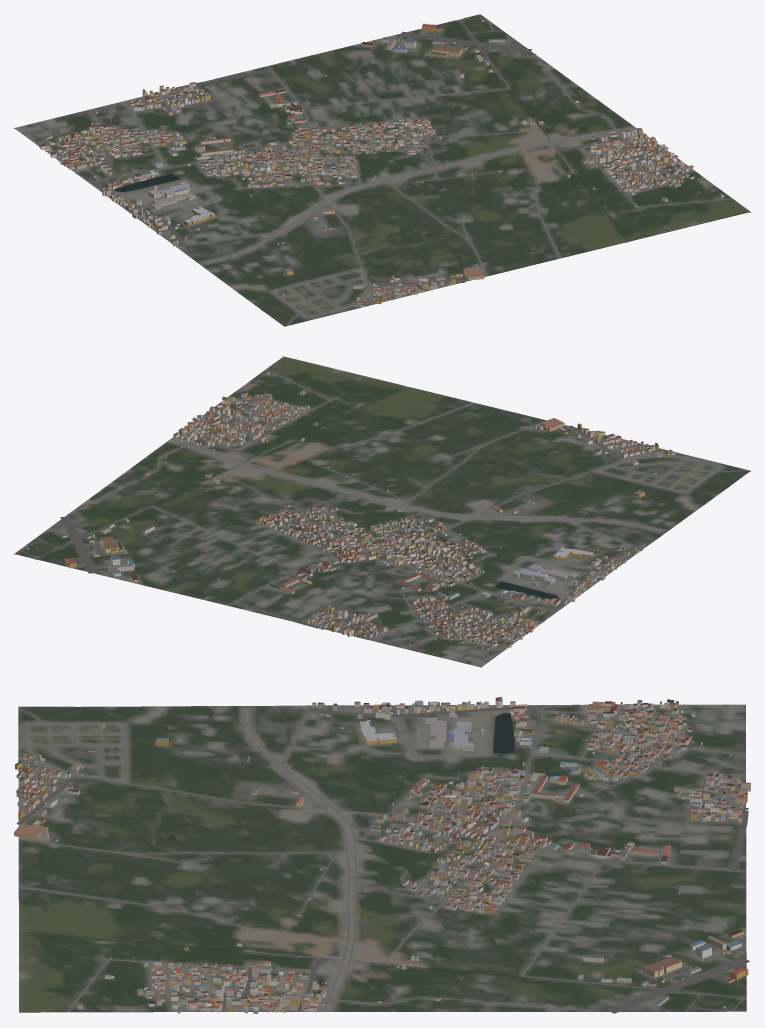
3 views of the same model, one above another, from view 1: azimuth 30°, elevation 25°; view 2: azimuth 150°, elevation 25°; view 3: azimuth 270°, elevation 25° (orthographic). The views are drawn at different scales.
Visible parts, largest first — view 1: ground, buildings, roads, water; view 2: ground, buildings, roads, water; view 3: ground, buildings, roads, water.
Boxes of the visible parts, x1,y1,x2,y2 form: ground: (14, 14, 750, 326); buildings: (38, 20, 723, 306); roads: (23, 18, 732, 325); water: (114, 20, 627, 310); ground: (14, 356, 750, 667); buildings: (26, 371, 690, 650); roads: (20, 369, 747, 664); water: (36, 386, 728, 599); ground: (18, 704, 746, 1012); buildings: (14, 697, 750, 1013); roads: (16, 704, 750, 1013); water: (19, 707, 745, 997).
Bounding box in the file's own units: 1415 × 25.9 × 1420.
